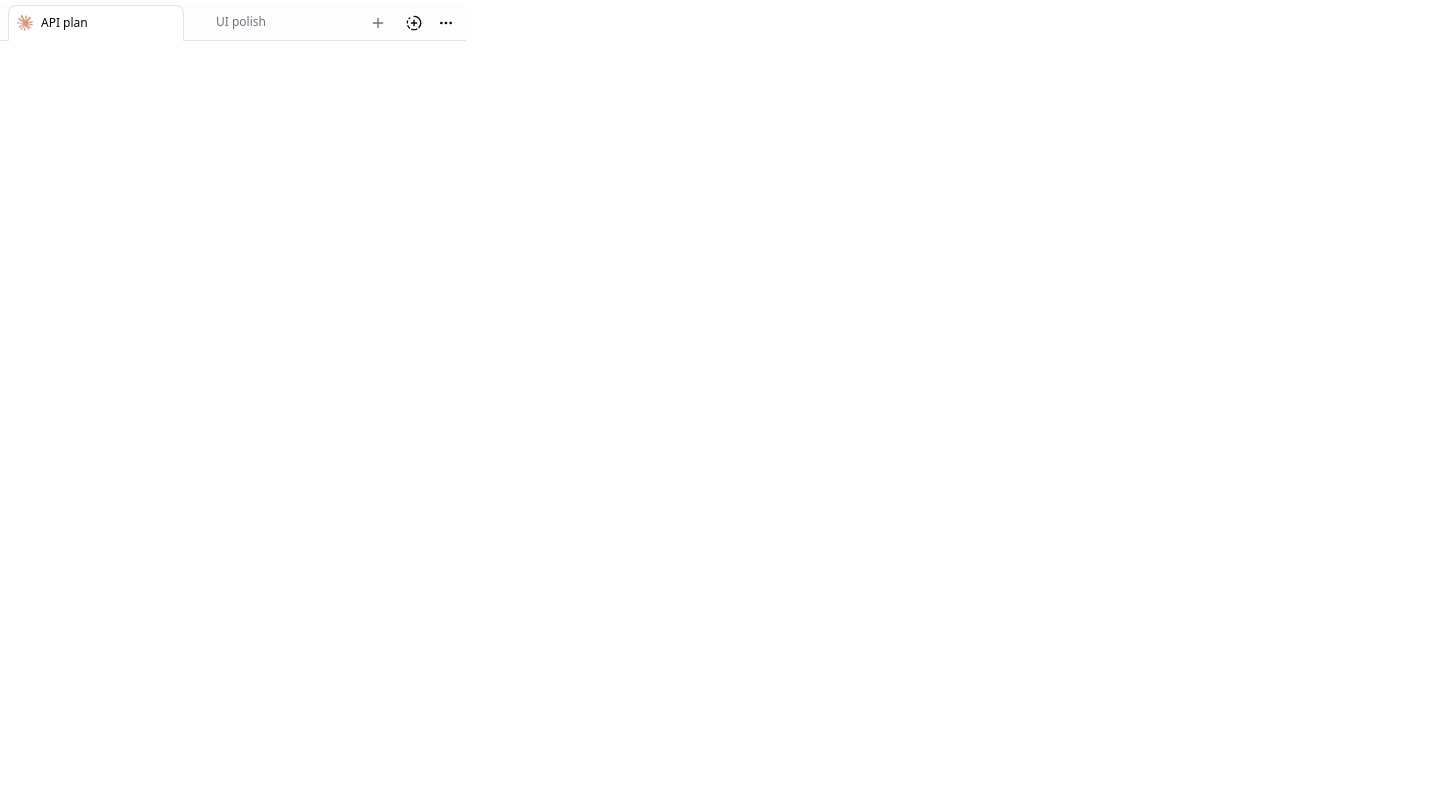
ChatTabBar › loads the rename group dialog when the group option is selected
Expected: the text "Rename chat group" is not shown
Click the button named "Group options" at point(446, 23), box [430,7,462,39]
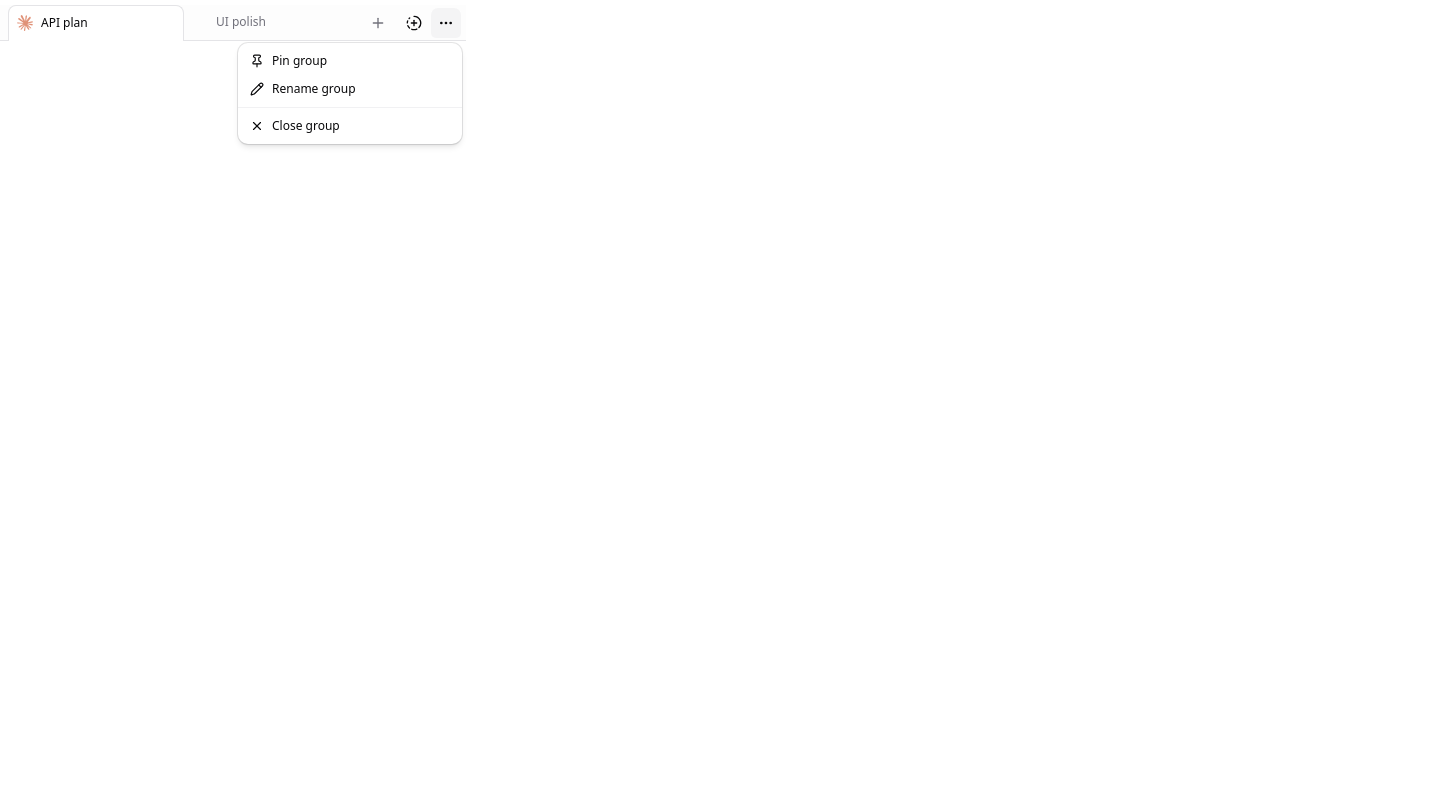
Click the menu item "Rename group" at point(303, 89), box [250,80,356,97]
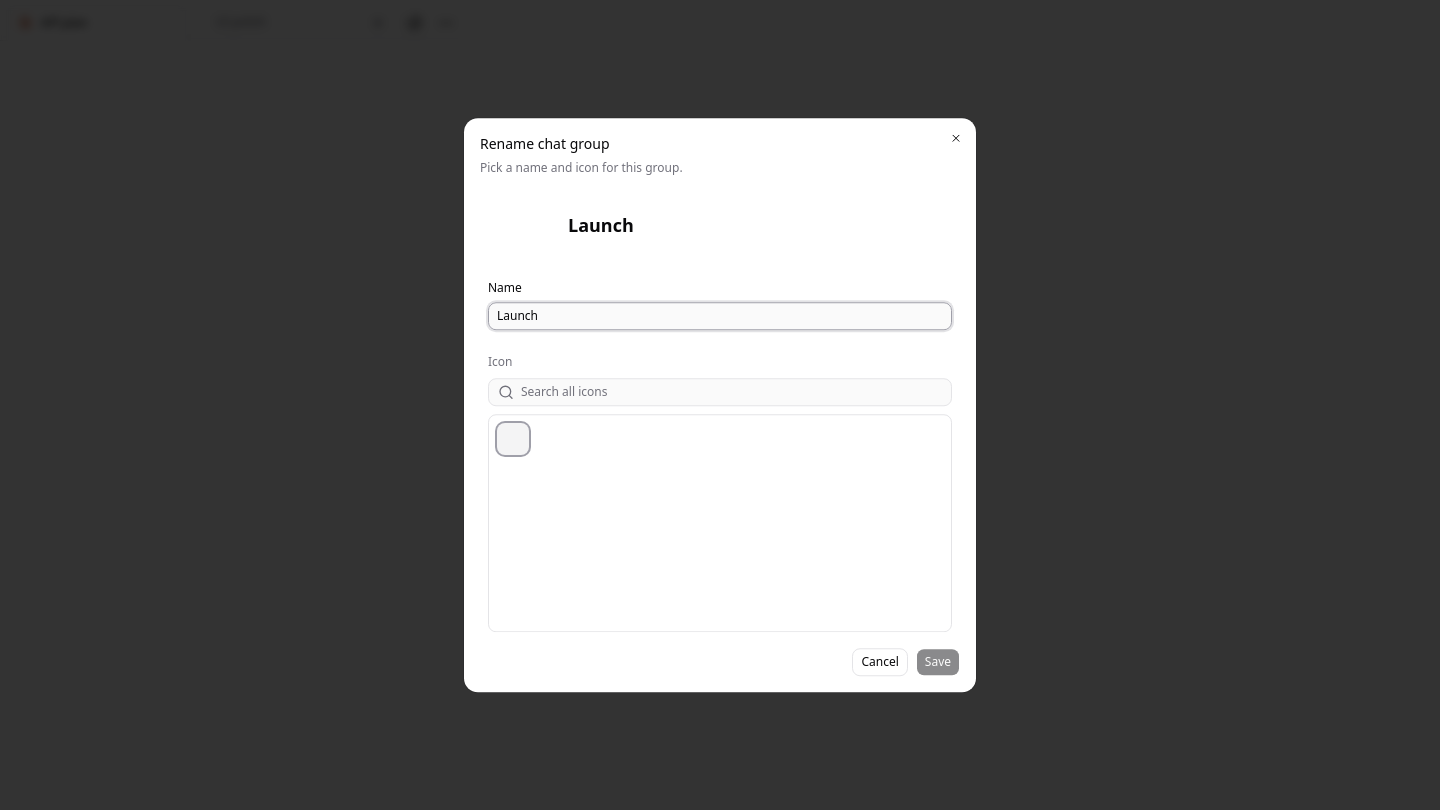
Result: the heading "Rename chat group" is shown at [480,134,610,153]
Result: the field named "Search icons" is shown at [488,378,952,406]
